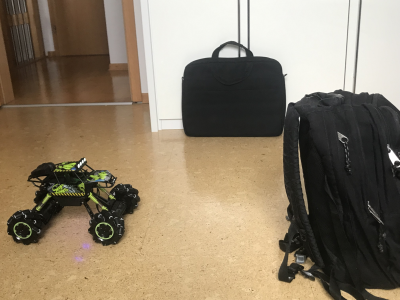remote control car: (6, 154, 141, 246)
